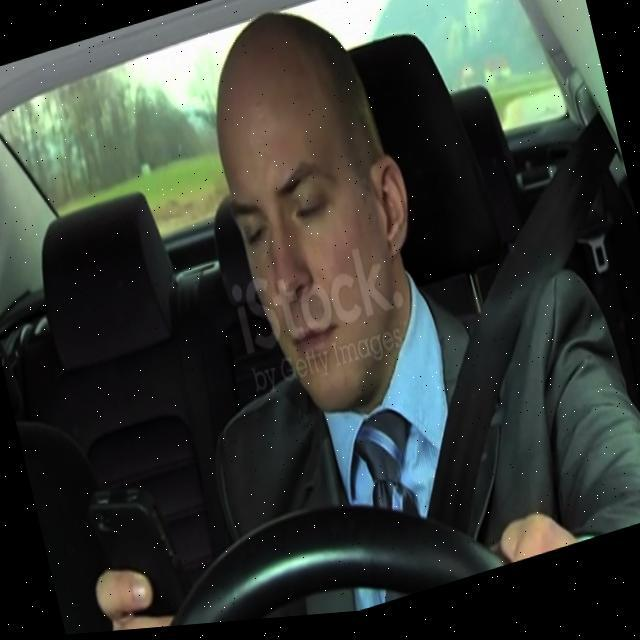PhoneCall: (84, 472, 198, 634)
